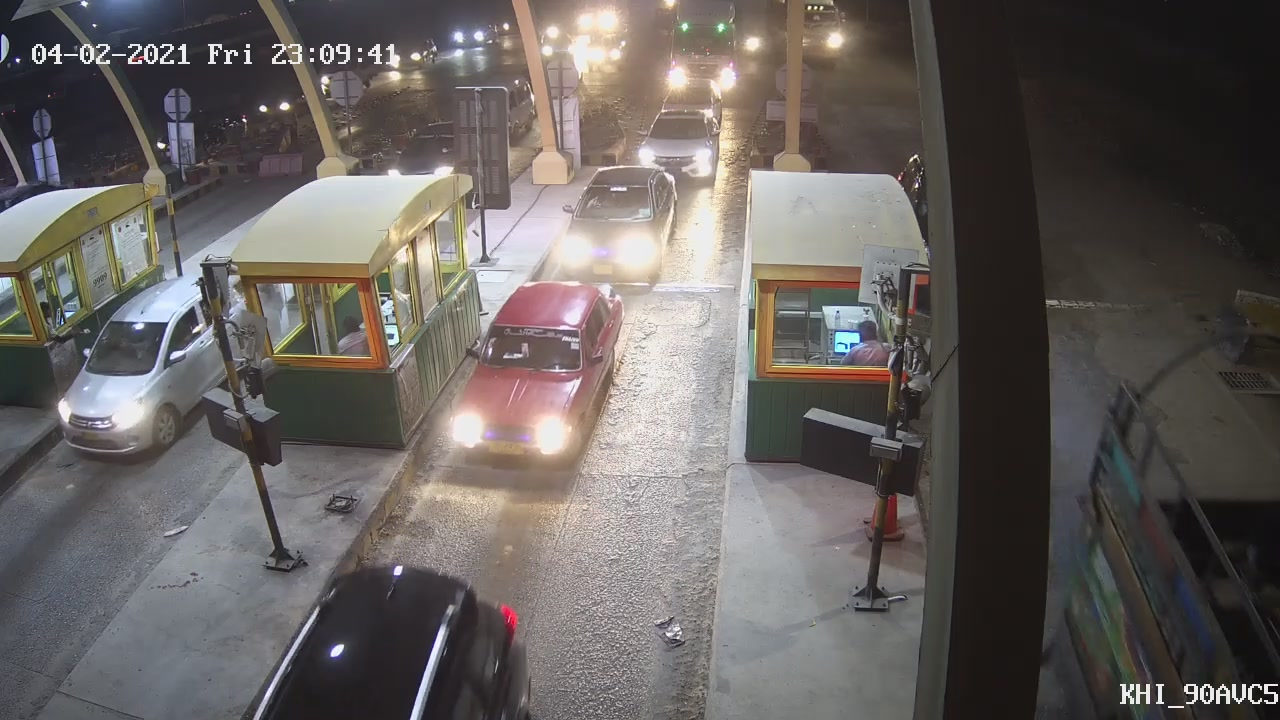F1: (446, 277, 623, 475), (555, 158, 680, 280)
